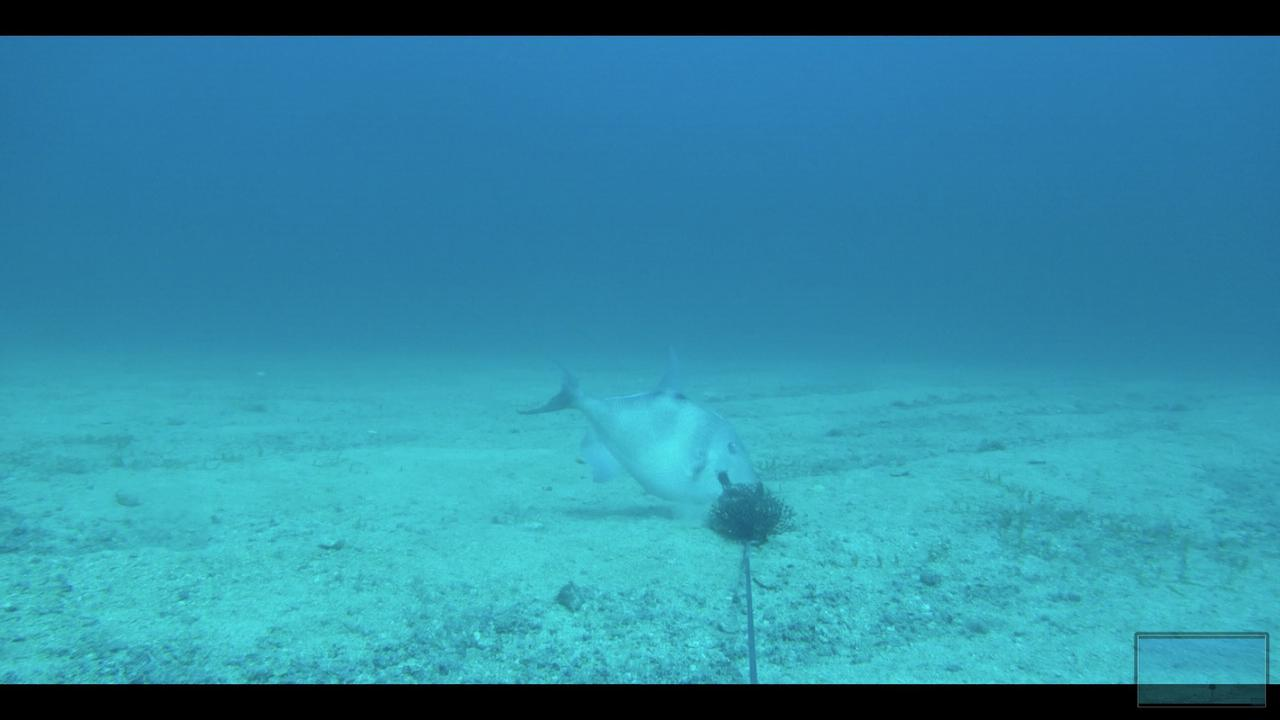balistes: (506, 349, 764, 516)
